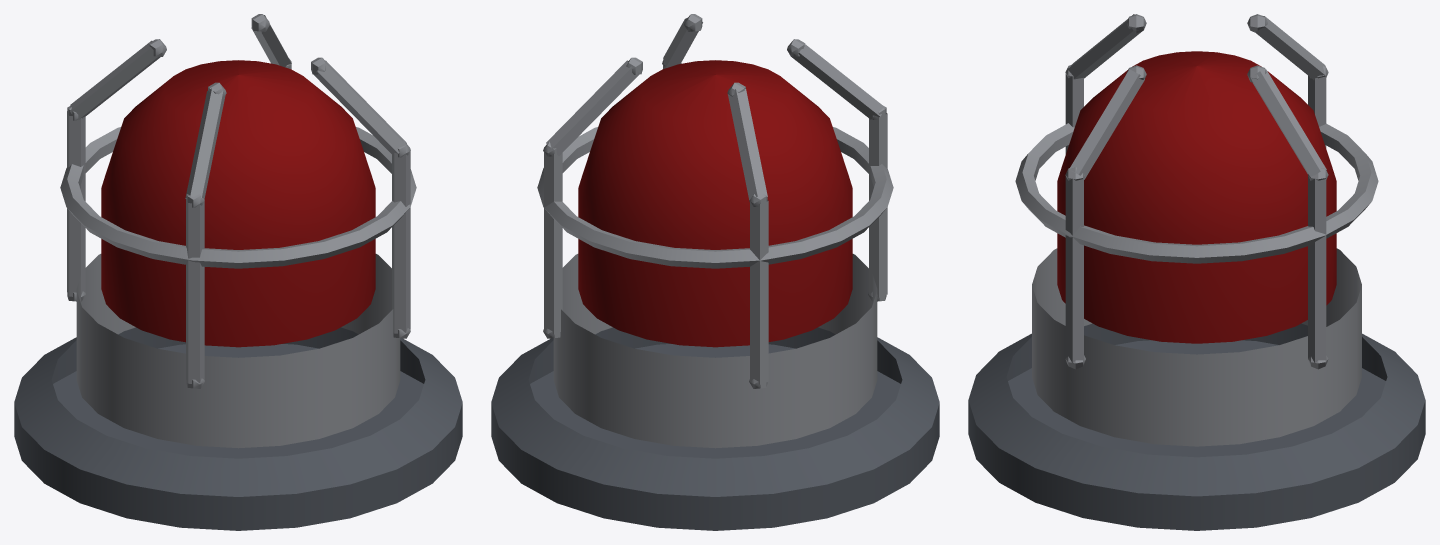
File: warning_light.obj
3 views of the same model, side by side, from view 1: azimuth 30°, elevation 25°; view 2: azimuth 150°, elevation 25°; view 3: azimuth 270°, elevation 25° (orthographic).
Visible parts, largest first — view 1: warning_light; view 2: warning_light; view 3: warning_light.
Boxes of the visible parts, x1,y1,x2,y2 form: warning_light: (14, 14, 462, 530); warning_light: (491, 14, 939, 530); warning_light: (968, 14, 1425, 530).
Size of the model in its own units: 0.36 by 0.3429 by 0.36.
